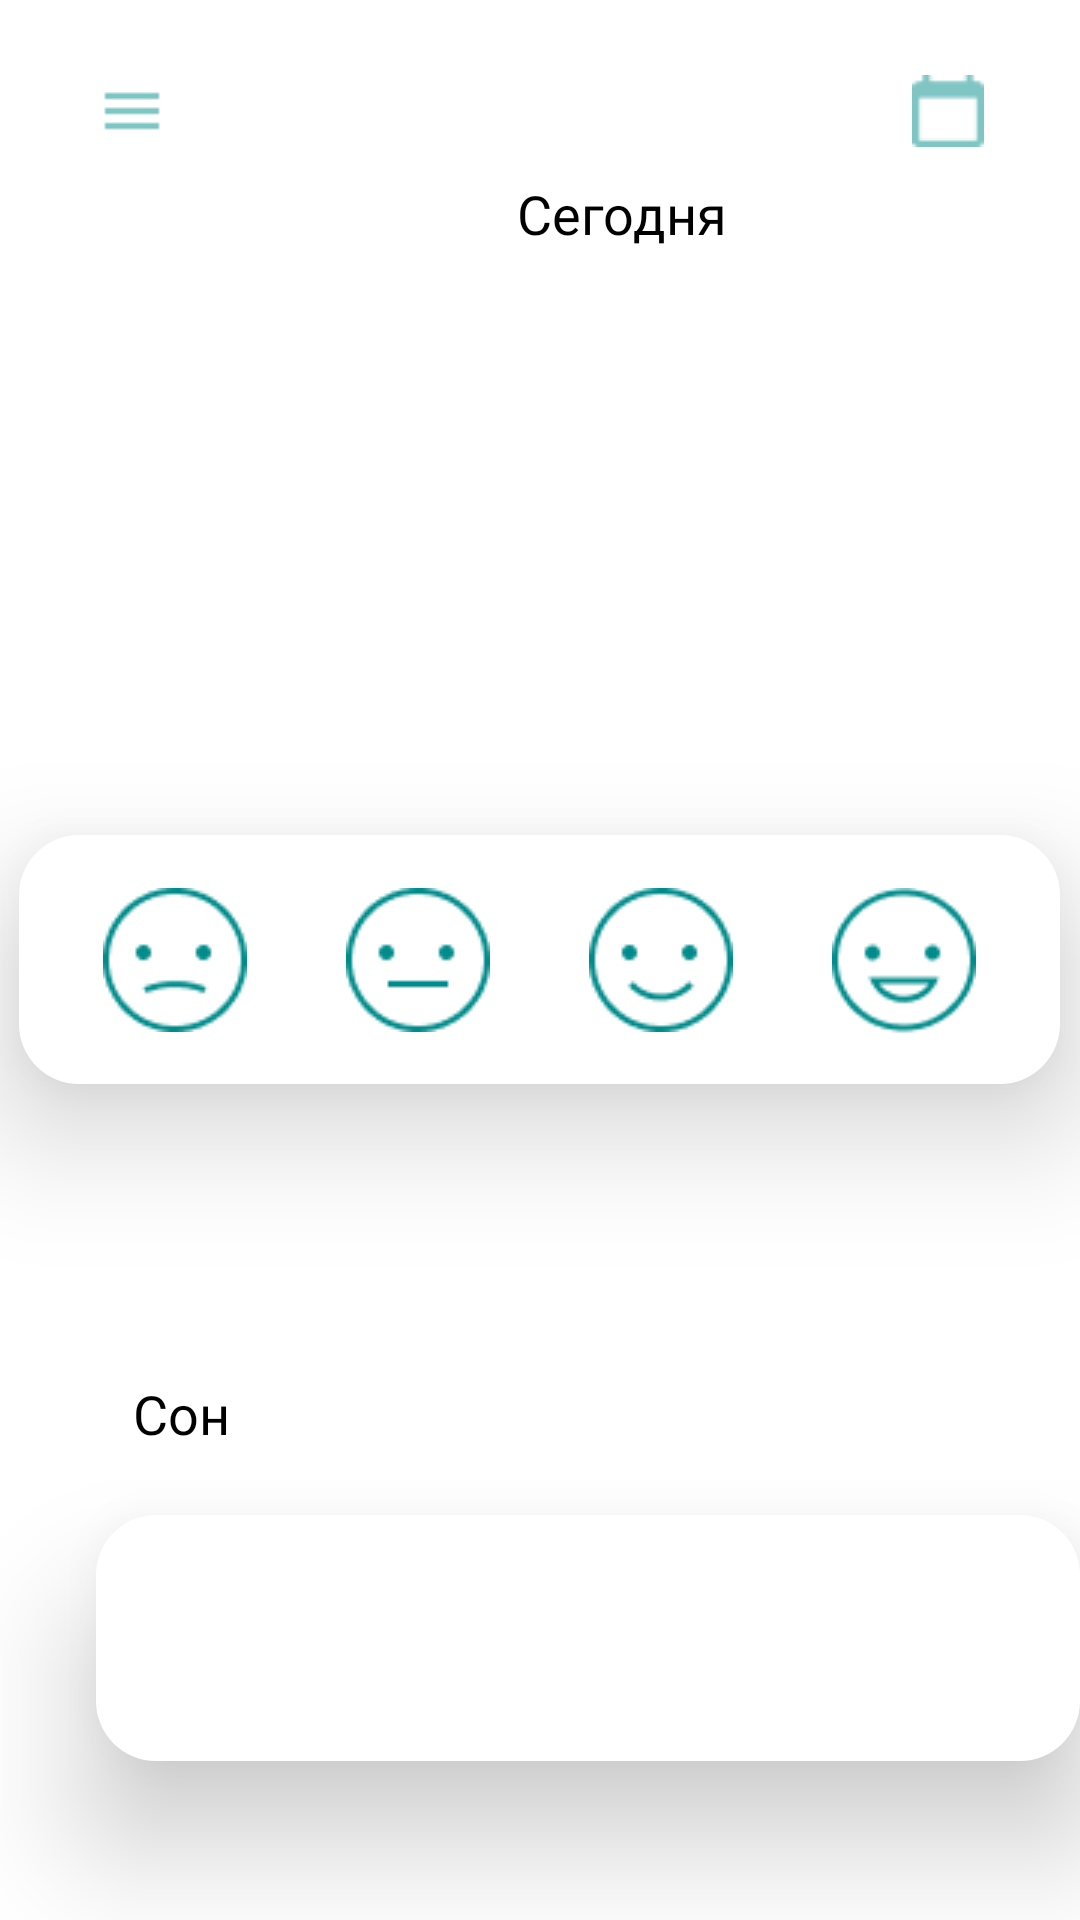

Named icons in this screenshot (1080×1920) and their bounding boxes, (x1, y1, x2, y2):
calendar: (912, 75, 984, 147)
menu: (104, 92, 160, 130)
